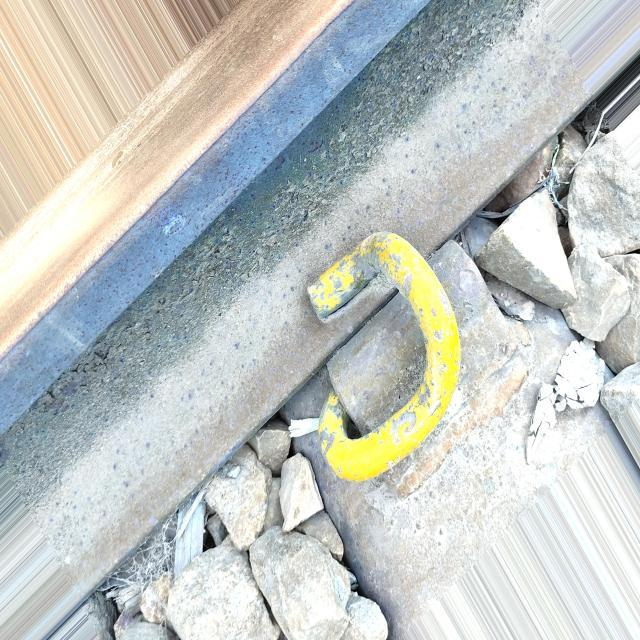Good Fasteners: (308, 232, 532, 497)
